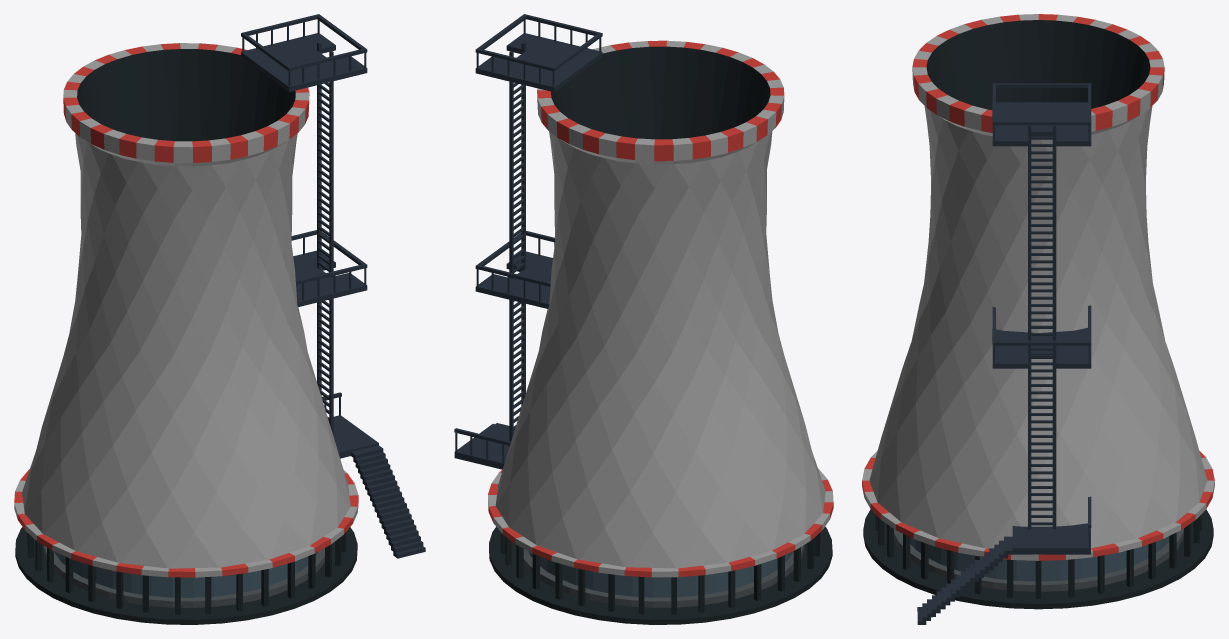
The model's file is SM_Buildings_Factory_04.fbx.
3 views of the same model, side by side, from view 1: azimuth 30°, elevation 25°; view 2: azimuth 150°, elevation 25°; view 3: azimuth 270°, elevation 25° (orthographic). The views are drawn at different scales.
Visible parts, largest first — view 1: SM_Buildings_Factory_04; view 2: SM_Buildings_Factory_04; view 3: SM_Buildings_Factory_04.
Part boxes in pixels (x1,y1,x2,y2): SM_Buildings_Factory_04: (14,14,425,624); SM_Buildings_Factory_04: (454,14,833,624); SM_Buildings_Factory_04: (862,14,1214,624).
Bounding box in the file's own units: 15.07 × 21.03 × 13.66.
